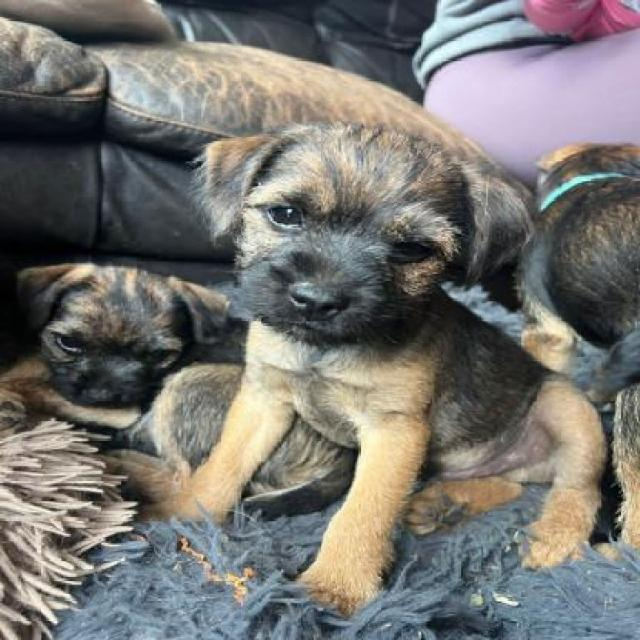animals: (180, 117, 594, 618), (9, 248, 226, 474)
